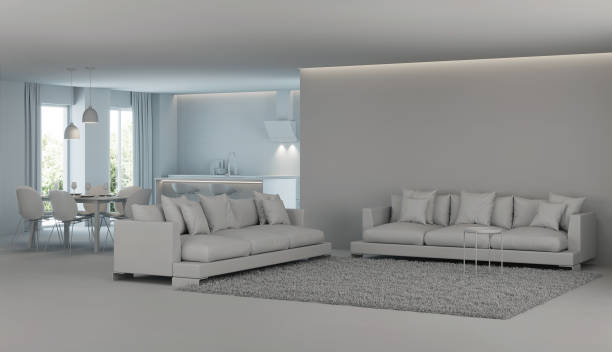dining table set: (11, 186, 151, 253)
sofa: (349, 186, 601, 275), (112, 191, 335, 283)
table: (460, 223, 506, 278)
